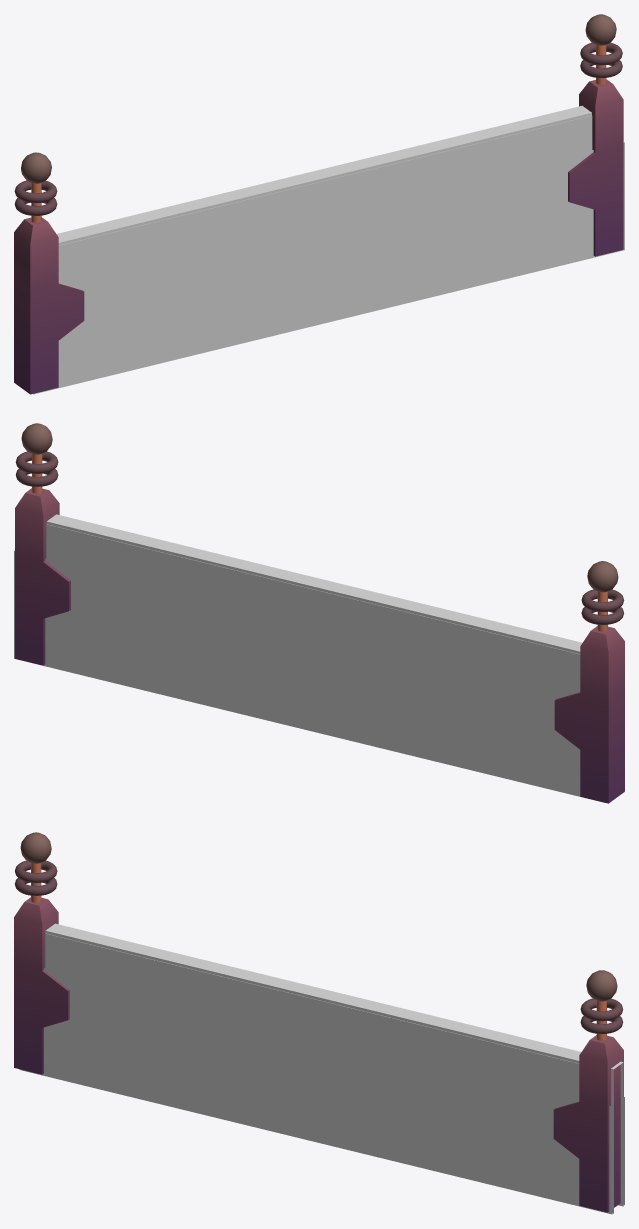
The model's file is Barrier.FBX.
3 renders of one model, top to bottom at view 1: azimuth 30°, elevation 25°; view 2: azimuth 150°, elevation 25°; view 3: azimuth 330°, elevation 25°, orthographic.
Parts seen in each view (by area): view 1: Barrier_Glow, Barrier, Barrier_Pillar2, Barrier_Pillar, Moving_Barrier; view 2: Barrier_Glow, Barrier, Barrier_Pillar2, Barrier_Pillar, Moving_Barrier; view 3: Barrier_Glow, Barrier, Barrier_Pillar, Barrier_Pillar2, Moving_Barrier.
Part boxes in pixels (x1,y1,x2,y2): Barrier_Glow: (33,142,624,394); Barrier: (58,115,592,280); Barrier_Pillar2: (14,152,84,394); Barrier_Pillar: (568,14,623,256); Moving_Barrier: (56,105,591,245); Barrier_Glow: (14,550,603,802); Barrier: (46,524,580,688); Barrier_Pillar2: (554,561,624,803); Barrier_Pillar: (15,423,70,665); Moving_Barrier: (46,514,582,654); Barrier_Glow: (19,968,624,1214); Barrier: (45,933,579,1098); Barrier_Pillar: (553,970,623,1212); Barrier_Pillar2: (14,832,69,1074); Moving_Barrier: (45,923,623,1213).
Size of the model in its own units: 1278 by 475 by 78.9.
